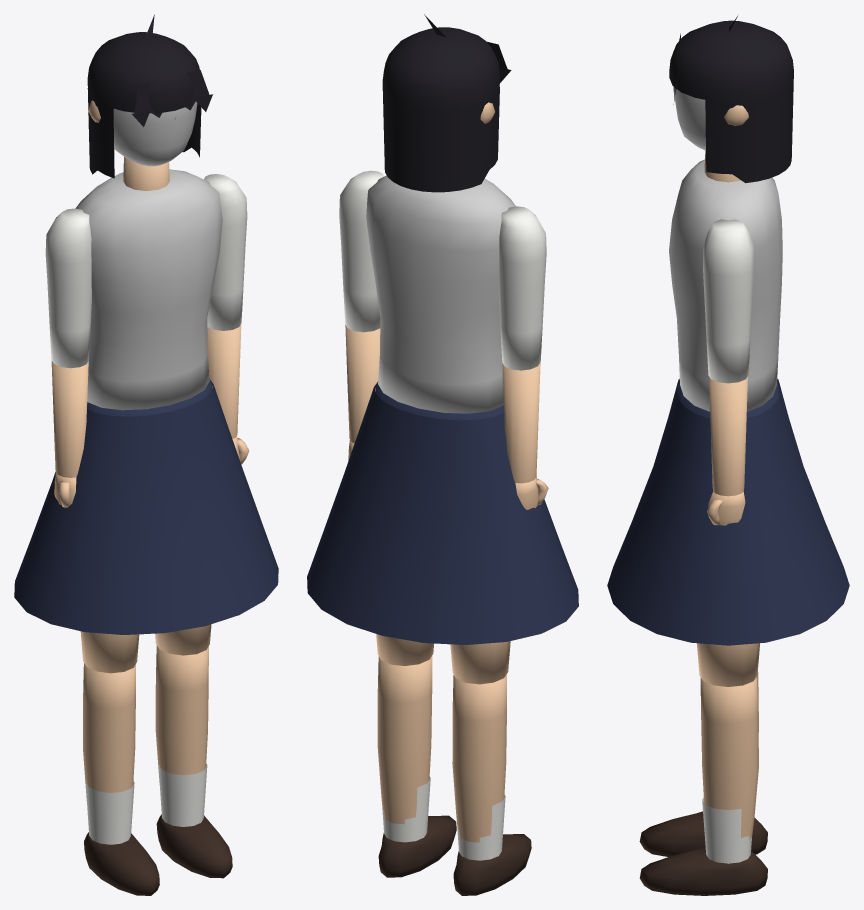
Rendered from kotoha.glb.
The picture shows the model from 3 angles, left to right: view 1: azimuth 30°, elevation 25°; view 2: azimuth 150°, elevation 25°; view 3: azimuth 270°, elevation 25°; orthographic projection. The views are drawn at different scales.
Visible parts, largest first — view 1: hips, torso, head, shinL, shinR, armR, armL, foreR, foreL, legR, legL; view 2: hips, torso, head, shinL, shinR, armR, armL, foreR, foreL, legR, legL; view 3: hips, head, torso, shinL, armL, foreL, shinR, legL.
Part boxes in pixels (x1,y1,x2,y2): hips: (14,378,278,634); torso: (75,156,222,410); head: (87,14,212,178); shinL: (155,645,232,878); shinR: (83,663,159,895); armR: (45,208,91,368); armL: (204,174,247,330); foreR: (51,361,88,507); foreL: (207,324,249,464); legR: (80,631,139,673); legL: (155,624,211,655); hips: (307,381,578,644); torso: (366,175,515,413); head: (382,14,511,192); shinL: (377,656,456,877); shinR: (452,674,531,895); armR: (498,206,546,370); armL: (339,170,383,332); foreR: (502,362,548,509); foreL: (345,325,380,460); legR: (450,641,510,684); legL: (376,634,433,665); hips: (607,379,849,645); head: (669,16,793,183); torso: (669,150,782,411); shinL: (639,677,767,895); armL: (703,219,753,383); foreL: (707,376,747,525); shinR: (639,671,767,856); legL: (697,643,759,686).
Size of the model in its own units: 0.5022 by 1.67 by 0.4278.
